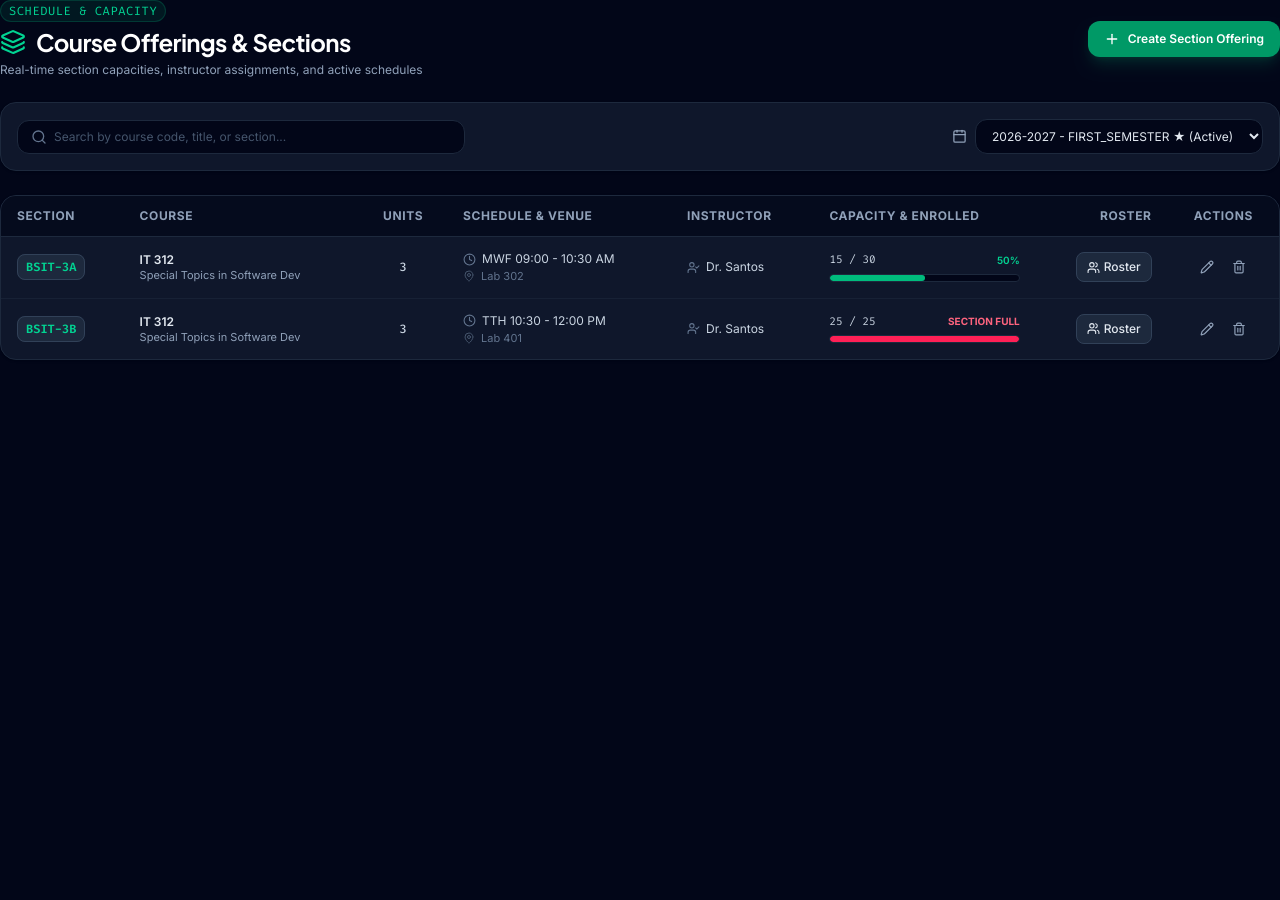
Test: OfferingsPage Component › should open edit modal prefilled and submit the offering update
Expected: the text "BSIT-3A" is shown, [17,254,85,280]
Click the button named "Edit BSIT-3A": coordinates (1207, 267) [1194,254,1220,280]
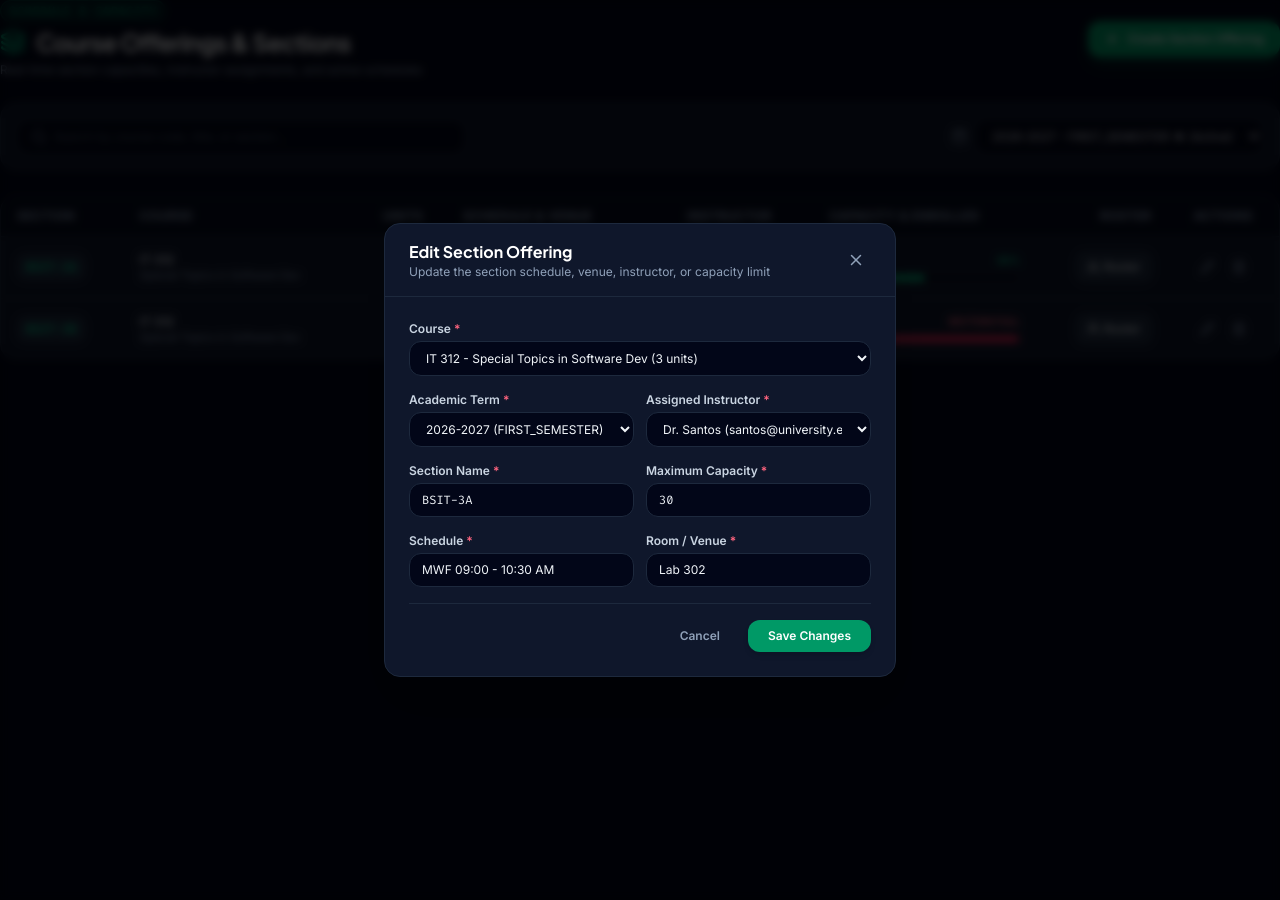
Expected: the heading "Edit Section Offering" is shown, [409,241,572,262]
Expected: the field labelled "Section Name *" holds "BSIT-3A", [409,483,634,517]
Expected: the number field labelled "Maximum Capacity *" holds "30"
Replace the text in the number field labelled "Maximum Capacity *" with "45": coordinates (758, 500) [646,483,871,517]
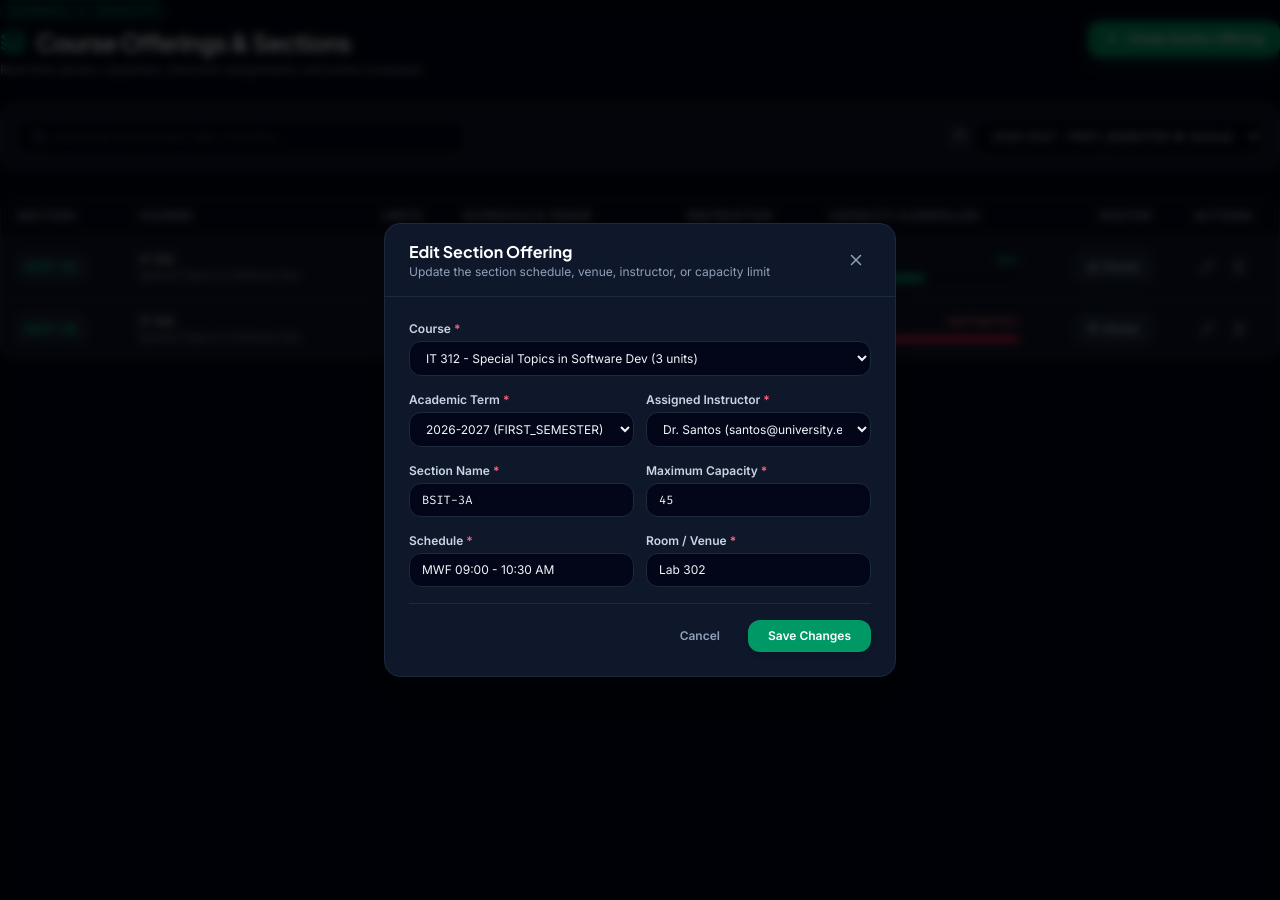
Click the button "Save Changes": coordinates (809, 636) [748,620,871,652]
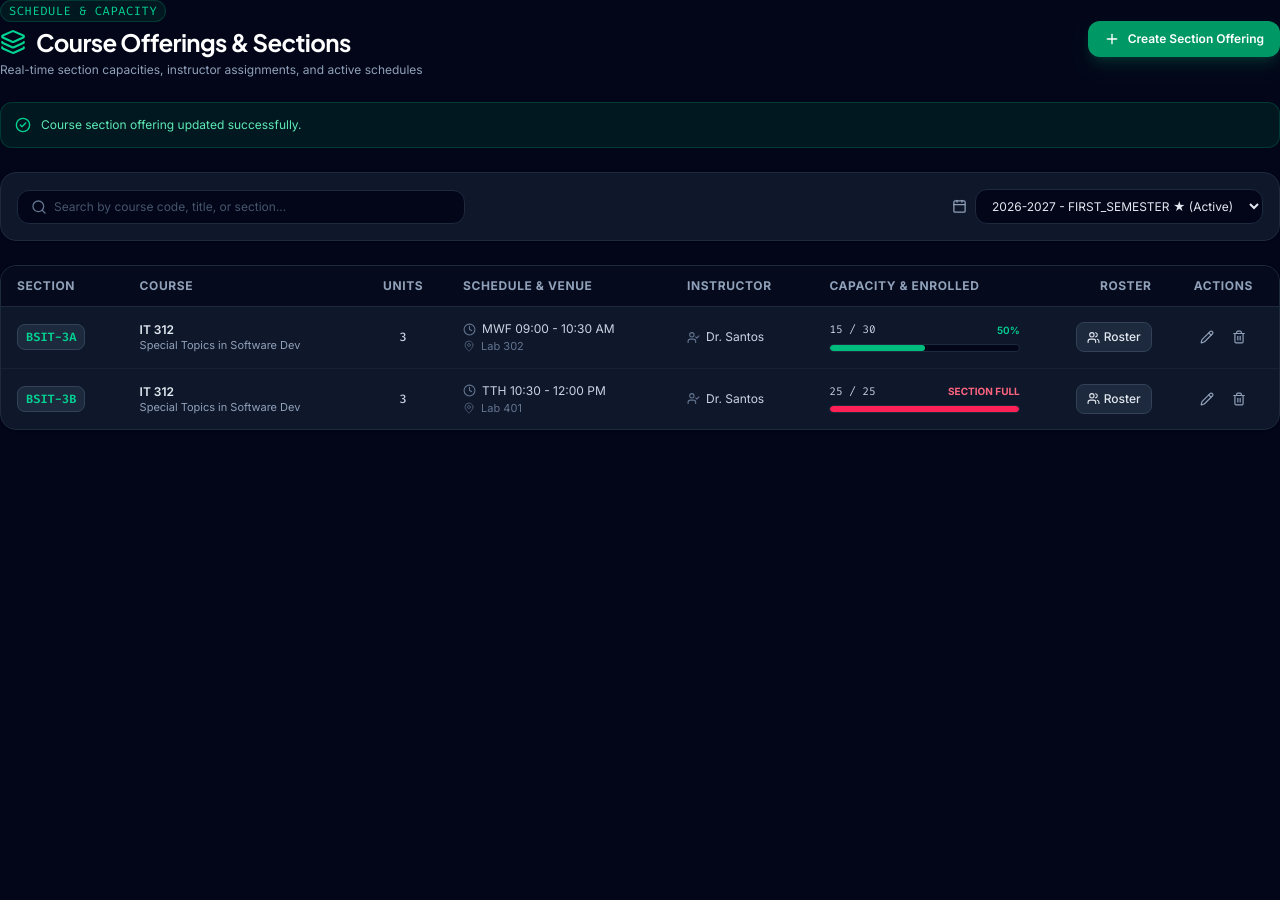
Expected: the text "Course section offering updated successfully." is shown, [41,117,302,133]
